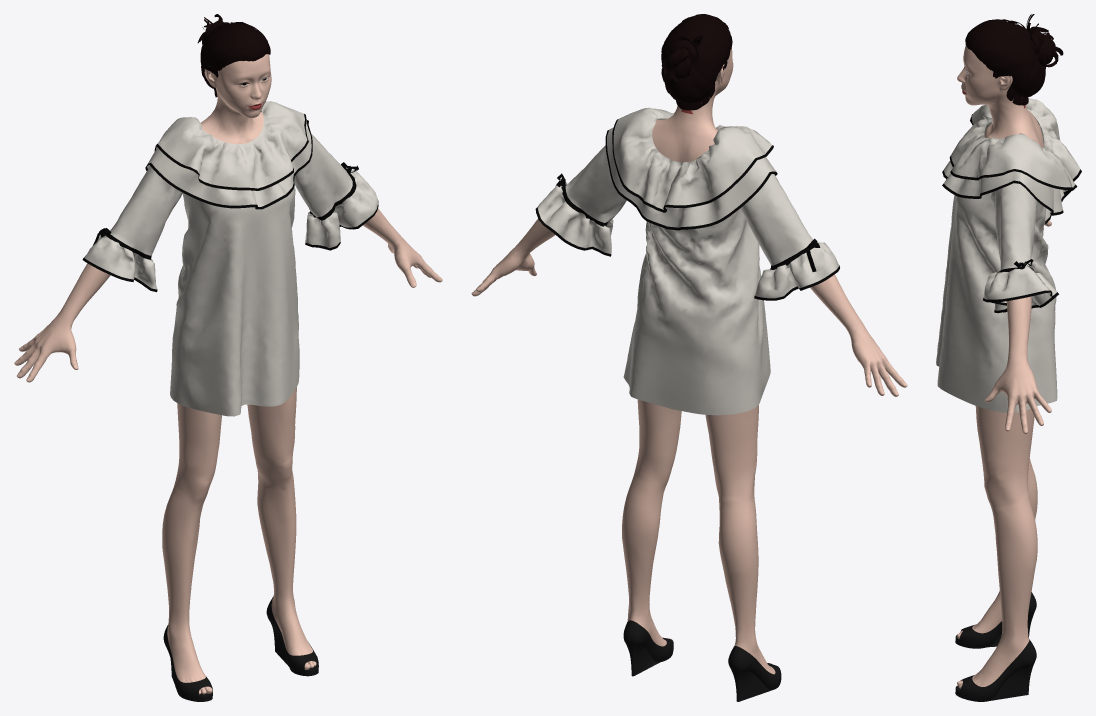
The model's file is garment2_3d.FBX.
3 renders of one model, left to right at view 1: azimuth 30°, elevation 25°; view 2: azimuth 150°, elevation 25°; view 3: azimuth 270°, elevation 25°, orthographic. The views are drawn at different scales.
Parts seen in each view (by area): view 1: garment2_final, bodyShape_skin_Shape, hair_Shape, shoes_l_Shape, shoes_r_Shape; view 2: garment2_final, bodyShape_skin_Shape, hair_Shape, shoes_r_Shape, shoes_l_Shape; view 3: garment2_final, bodyShape_skin_Shape, hair_Shape, shoes_l_Shape, shoes_r_Shape.
Part boxes in pixels (box(x1,y1,x2,y2)): garment2_final: box(82, 101, 378, 416); bodyShape_skin_Shape: box(14, 54, 442, 694); hair_Shape: box(197, 14, 270, 97); shoes_l_Shape: box(266, 597, 318, 676); shoes_r_Shape: box(163, 625, 212, 701); garment2_final: box(535, 107, 839, 415); bodyShape_skin_Shape: box(471, 48, 907, 674); hair_Shape: box(661, 14, 732, 110); shoes_r_Shape: box(728, 646, 781, 701); shoes_l_Shape: box(623, 620, 673, 676); garment2_final: box(936, 98, 1081, 412); bodyShape_skin_Shape: box(957, 45, 1051, 688); hair_Shape: box(965, 14, 1063, 105); shoes_l_Shape: box(955, 639, 1036, 701); shoes_r_Shape: box(955, 592, 1036, 648).
Size of the model in its own units: 49.97 by 74.29 by 15.18.
Materials: 13 (1 with a texture image).
